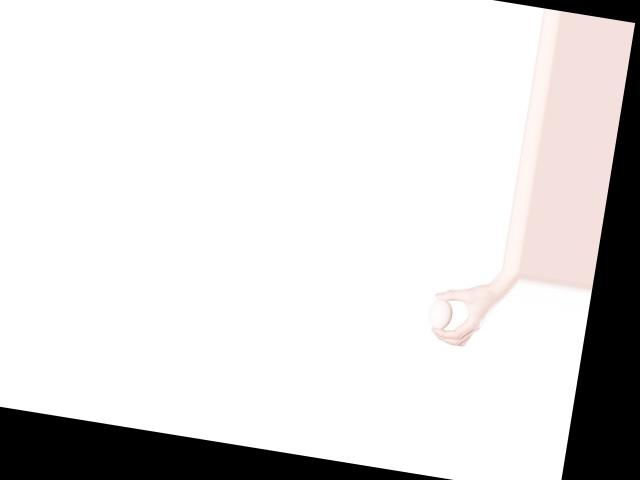egg: (427, 296, 454, 330)
